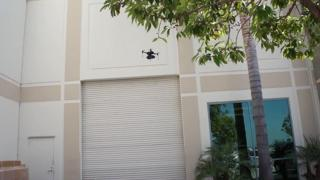UAV: (142, 48, 160, 62)
